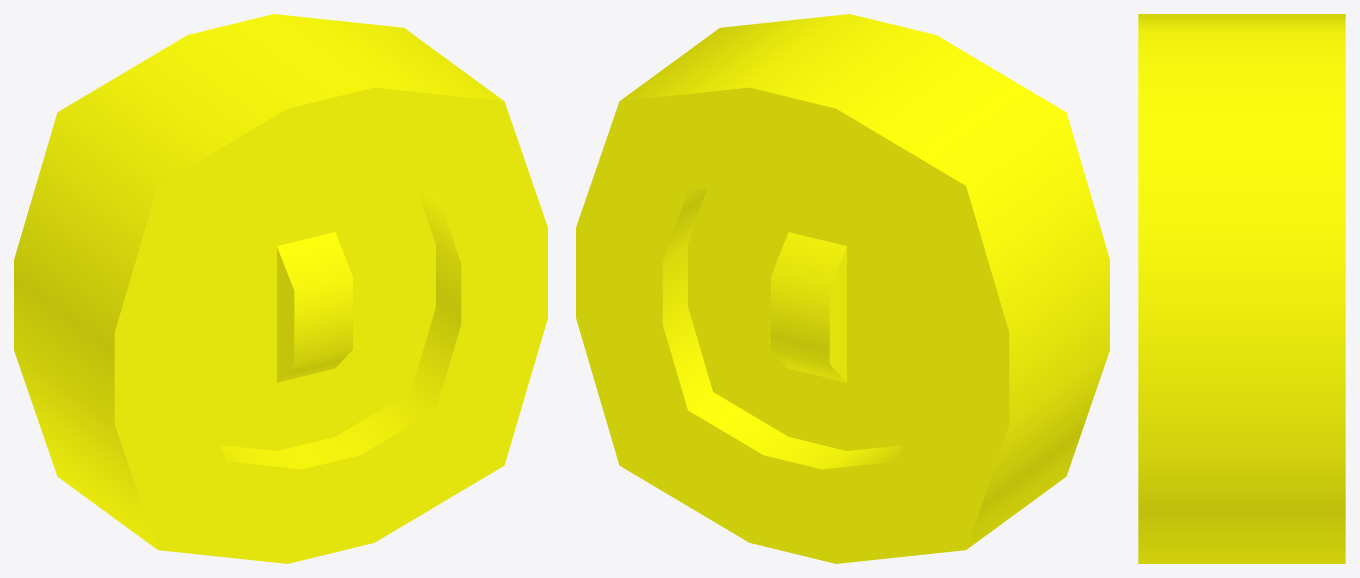
The model's file is 装饰道具_金币.glb.
3 renders of one model, left to right at view 1: azimuth 30°, elevation 25°; view 2: azimuth 150°, elevation 25°; view 3: azimuth 270°, elevation 25°, orthographic. The views are drawn at different scales.
Parts seen in each view (by area): view 1: coin; view 2: coin; view 3: coin.
Part boxes in pixels (x1,y1,x2,y2): coin: (14,14,547,563); coin: (576,14,1109,563); coin: (1138,14,1345,563).
Bounding box in the file's own units: 0.415 × 0.4167 × 0.1667.
1 material, 1 textured.
